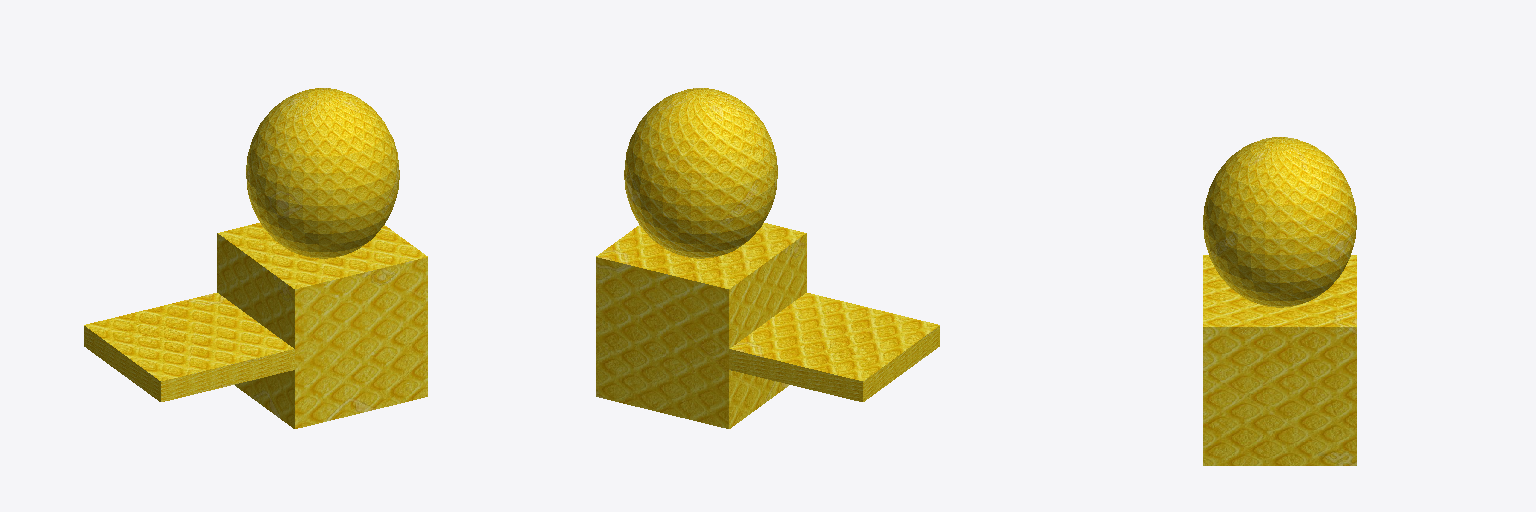
The picture shows the model from 3 angles: view 1: azimuth 30°, elevation 25°; view 2: azimuth 150°, elevation 25°; view 3: azimuth 270°, elevation 25°; orthographic projection.
Parts seen in each view (by area): view 1: Cube, Sphere, Cube.001; view 2: Cube, Sphere, Cube.001; view 3: Cube, Sphere.
Part boxes in pixels (x1,y1,x2,y2): Cube: (217, 223, 427, 428); Sphere: (246, 88, 399, 258); Cube.001: (84, 293, 294, 401); Cube: (596, 223, 806, 428); Sphere: (624, 88, 777, 258); Cube.001: (729, 293, 939, 401); Cube: (1203, 261, 1356, 465); Sphere: (1203, 137, 1356, 307).
Bounding box in the file's own units: 4 × 4.15 × 2.
1 materials, 1 textured.